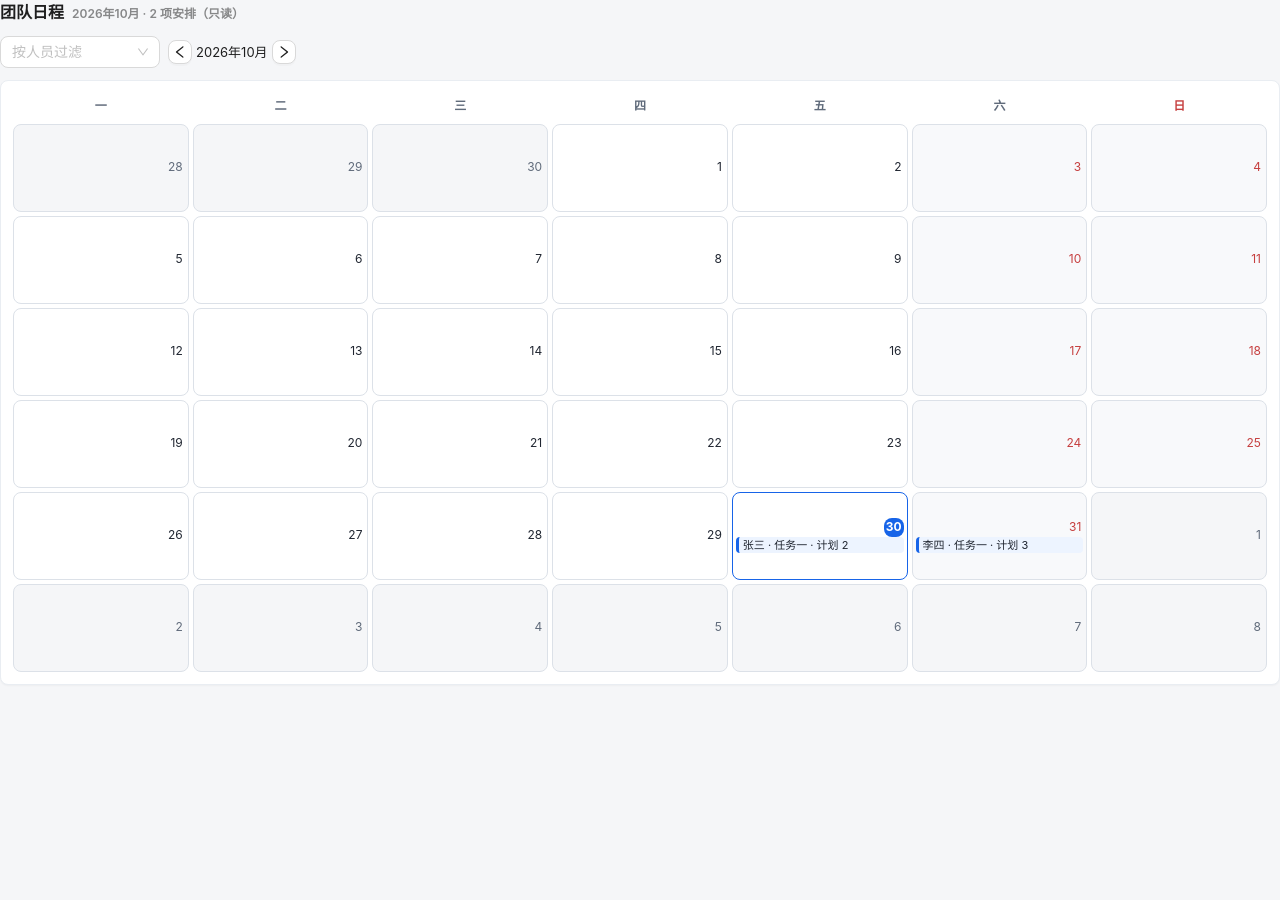
Test: 团队日程（HYPE-88，只读） › 当天明细 Drawer（HYPE-91，只读） › 点日格打开当天明细：字段渲染完整（人/项目/任务/计划完成/状态/下达/备注）
Click the button "30 张三 · 任务一 · 计划 2": (820, 536) [732,492,908,580]
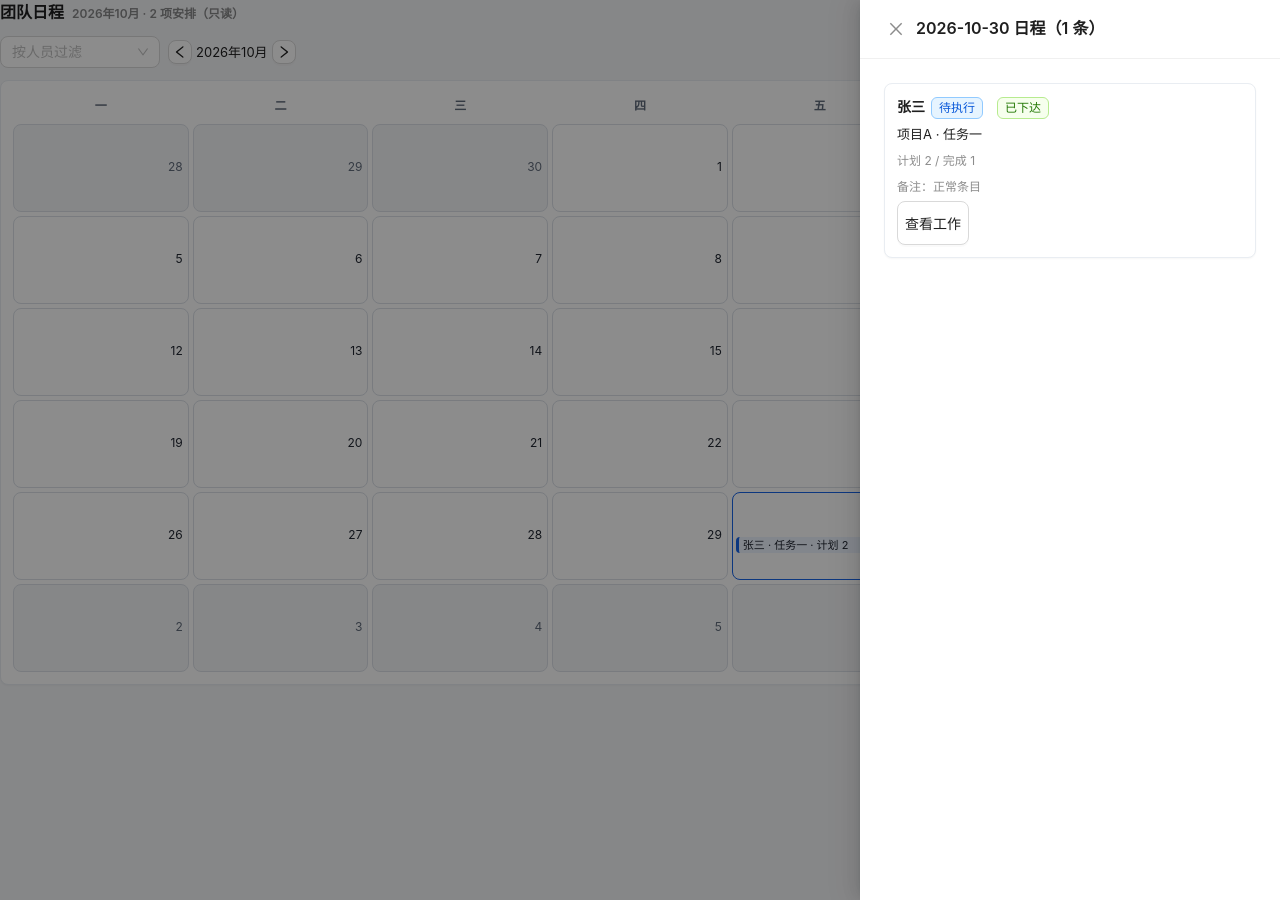
Expected: the text "张三" is shown, [897,98,925,115]
Expected: the text "项目A · 任务一" is shown, [897,126,982,142]
Expected: the text "计划 2 / 完成 1" is shown, [897,153,975,168]
